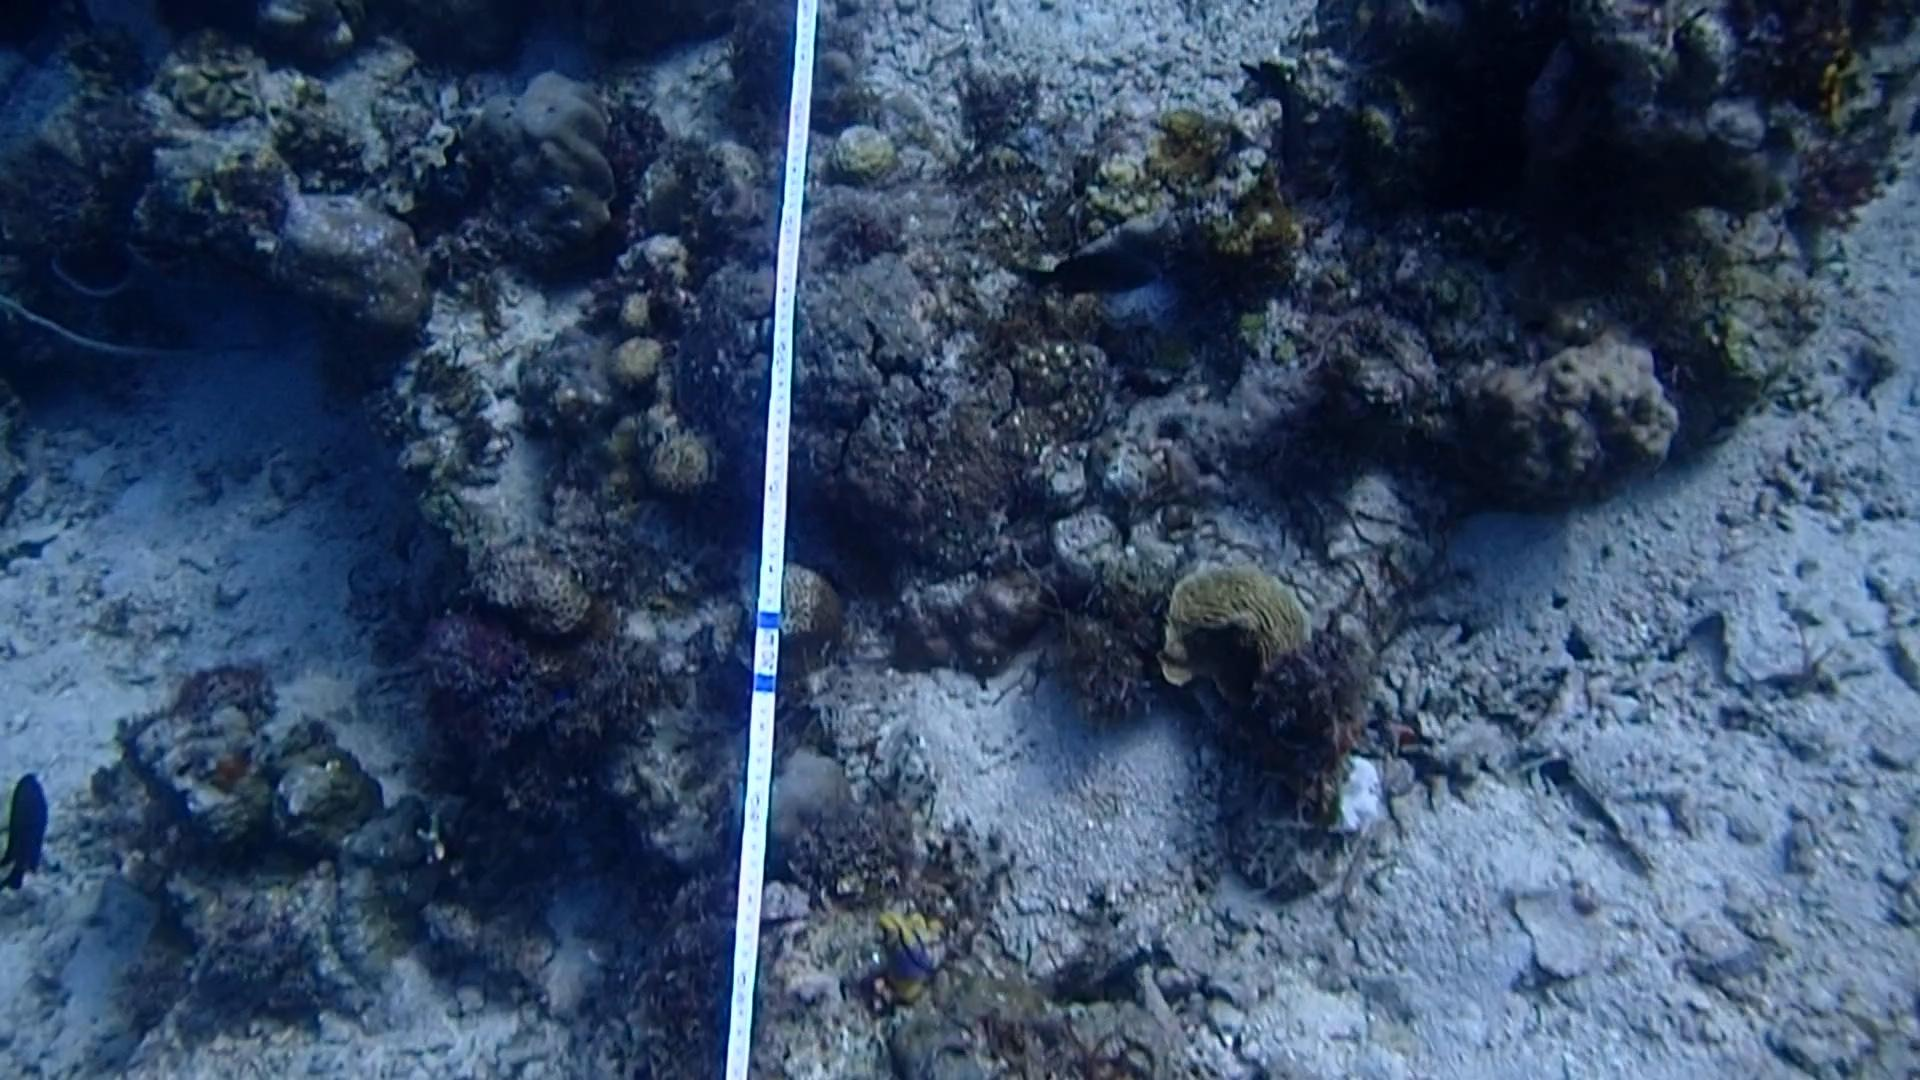Dark Fish: (1017, 239, 1153, 305), (0, 761, 67, 890)
